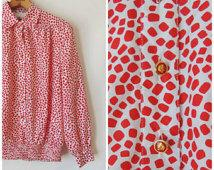C_blouse: (1, 1, 99, 170)
